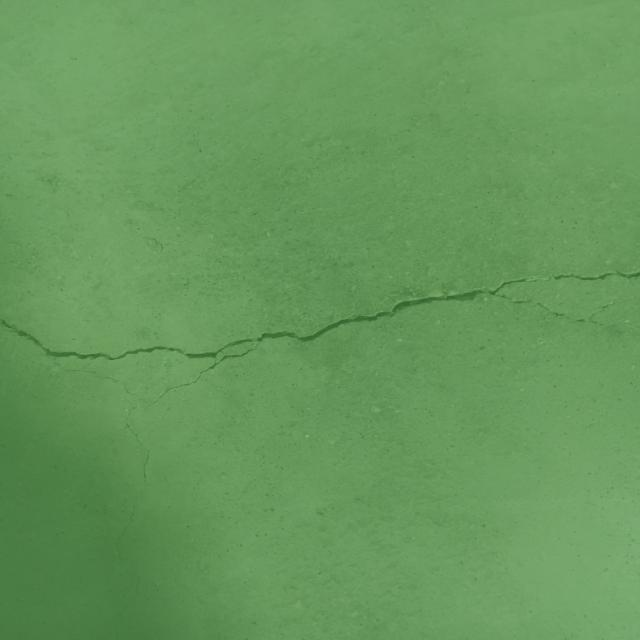crack: (0, 270, 640, 447), (52, 362, 136, 395), (115, 506, 135, 562), (142, 449, 151, 486), (599, 322, 640, 328), (136, 575, 140, 594)
